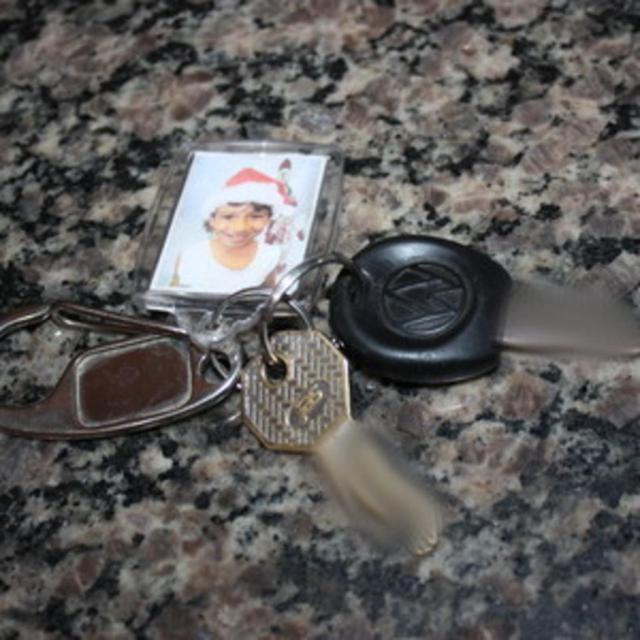Frontdoor keys: (228, 322, 457, 560)
